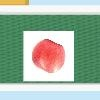raw: (29, 37, 67, 74)
